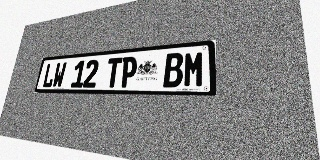1: (71, 60, 87, 88)
2: (83, 59, 99, 88)
B: (163, 52, 184, 87)
L: (42, 63, 57, 88)
M: (183, 51, 205, 87)
P: (119, 56, 138, 88)
T: (105, 57, 123, 88)
W: (52, 62, 67, 88)
